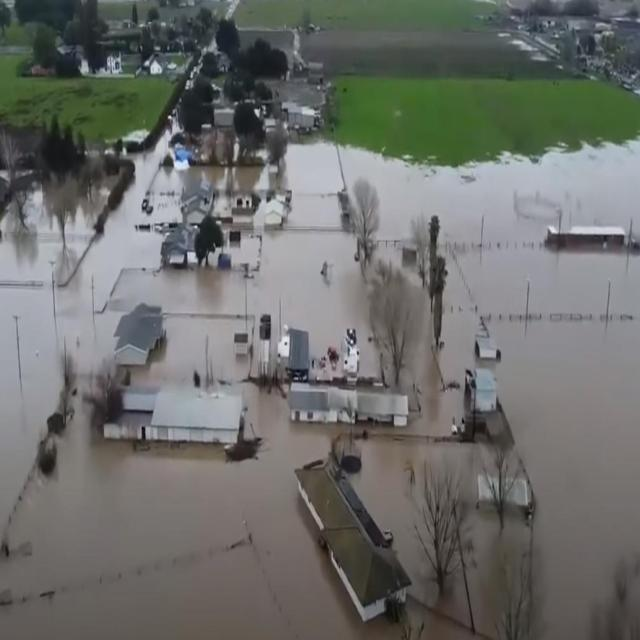flood: (0, 342, 531, 640), (341, 138, 640, 637), (0, 128, 180, 543), (106, 142, 371, 361), (131, 318, 249, 388)
house: (293, 452, 412, 626), (111, 375, 246, 452), (284, 376, 418, 430), (111, 302, 166, 364), (548, 220, 627, 255), (161, 221, 199, 271), (182, 178, 215, 224), (232, 190, 254, 216), (265, 199, 284, 229), (148, 54, 165, 76)
